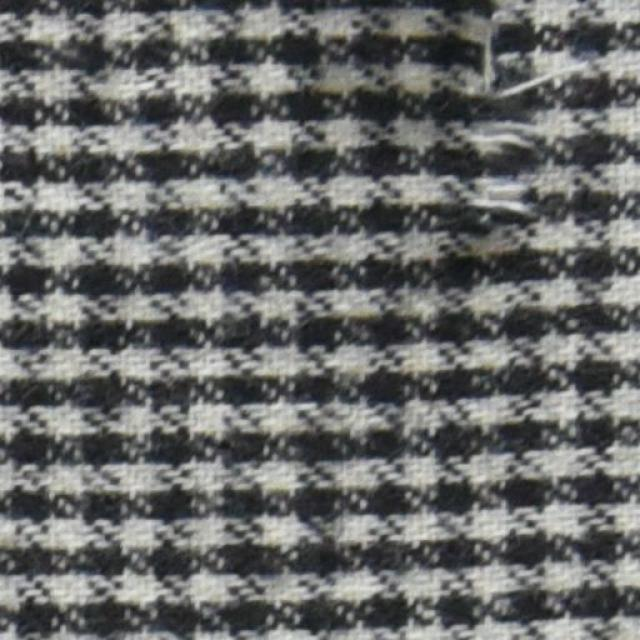Snag: (456, 7, 548, 258)
